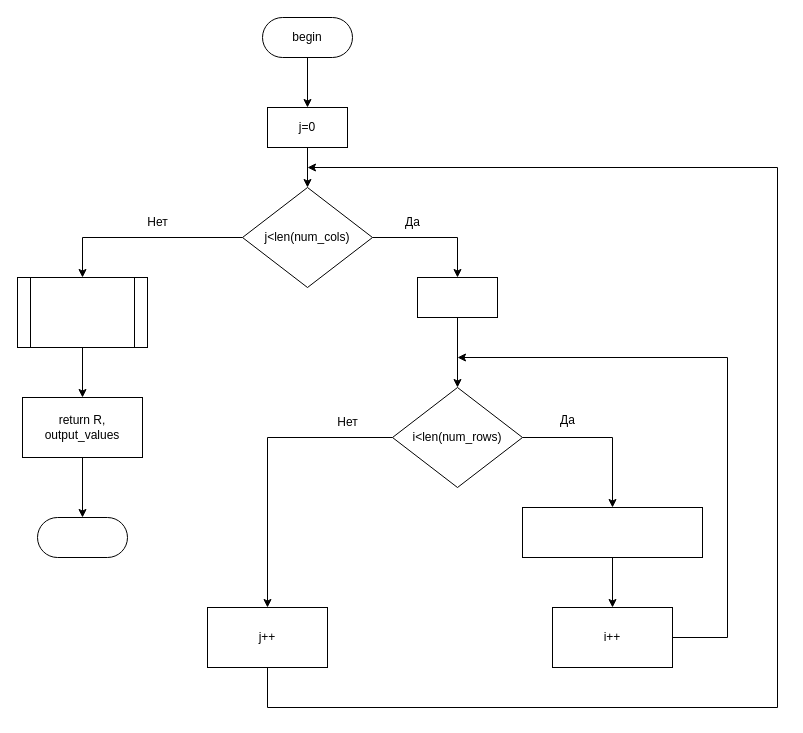
Some shapes in this 803 by 733 pixel diagram are drawn without their labels. The shapes that lost their labels are listed below. From the top down, each one's box as (x1, y1, x2, y2) in pixels, then its label:
(16, 276, 148, 348): output_values = [Decimal(str(deg)) for _, deg in output_vector]
(416, 276, 498, 318): i=0
(36, 516, 128, 558): end
(522, 506, 702, 558): R = Decimal(str(matrix[i][j]))
